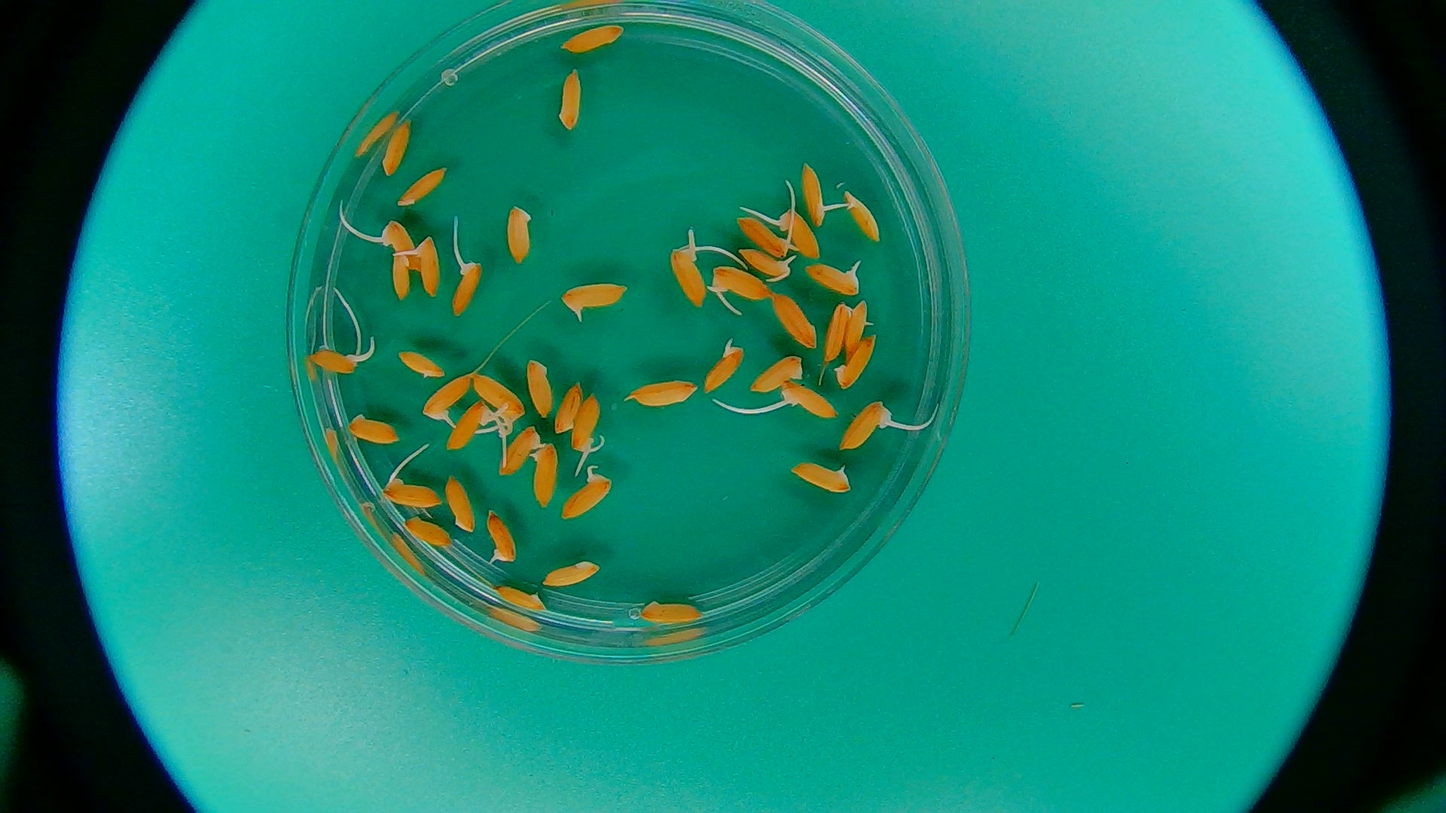no: (832, 333, 884, 393), (770, 292, 818, 346), (395, 163, 447, 212), (626, 379, 697, 410), (789, 461, 851, 495), (844, 191, 880, 244), (379, 118, 410, 179), (559, 24, 624, 53), (750, 355, 802, 391), (822, 300, 851, 361), (505, 203, 533, 266), (505, 426, 540, 475), (446, 477, 477, 532), (557, 69, 584, 132), (533, 443, 558, 510), (737, 218, 787, 251), (841, 299, 871, 354), (526, 359, 553, 417), (346, 413, 398, 443), (541, 561, 601, 586), (639, 600, 702, 623), (494, 585, 545, 612), (395, 350, 444, 377), (404, 516, 448, 546), (556, 379, 580, 433), (389, 254, 413, 301)
yes: (557, 282, 632, 321), (423, 371, 478, 423), (669, 244, 711, 309), (840, 403, 894, 451), (561, 470, 609, 520), (703, 340, 745, 395), (448, 257, 480, 326), (447, 400, 488, 453), (382, 221, 418, 281), (477, 376, 522, 424), (383, 472, 441, 509), (567, 393, 604, 451), (713, 264, 770, 301), (778, 207, 820, 257), (798, 166, 830, 230), (781, 382, 836, 419), (805, 262, 860, 294), (739, 247, 792, 280), (414, 236, 441, 297), (487, 511, 518, 564), (307, 344, 354, 376)
